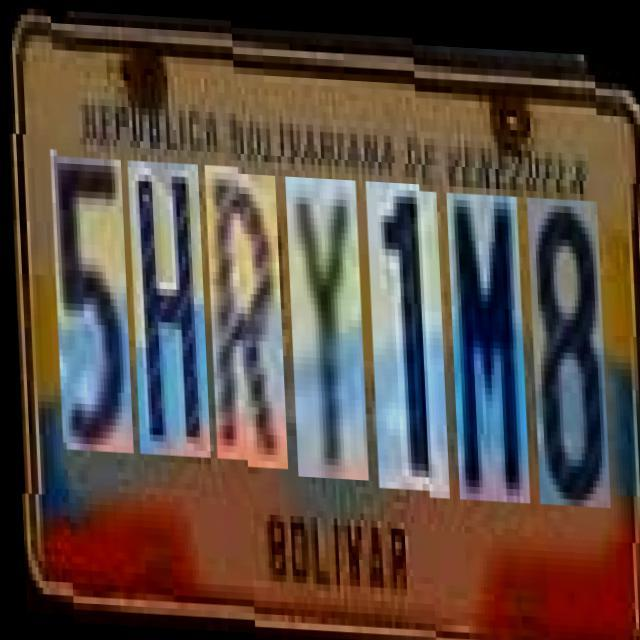1: (364, 170, 444, 480)
5: (49, 155, 130, 452)
8: (524, 178, 606, 488)
H: (126, 159, 207, 456)
M: (444, 174, 525, 484)
R: (203, 162, 284, 460)
Y: (284, 166, 364, 470)
